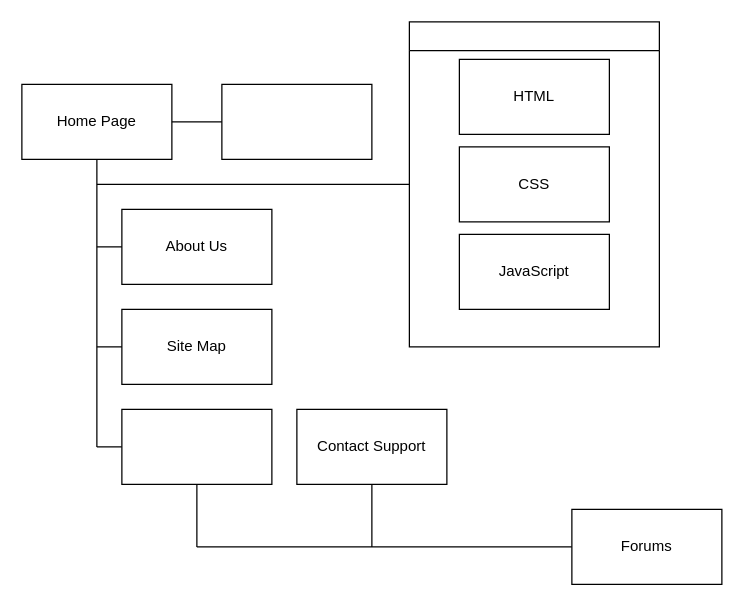
Image size: 744x606. Some labels were removed from this diagram. The shapes that lost their labels are listed below. From the top down, each one's box as (x1, y1, x2, y2) in pixels, then its label:
(221, 83, 372, 159): Login
(408, 21, 659, 347): Languages
(121, 408, 272, 484): Support
